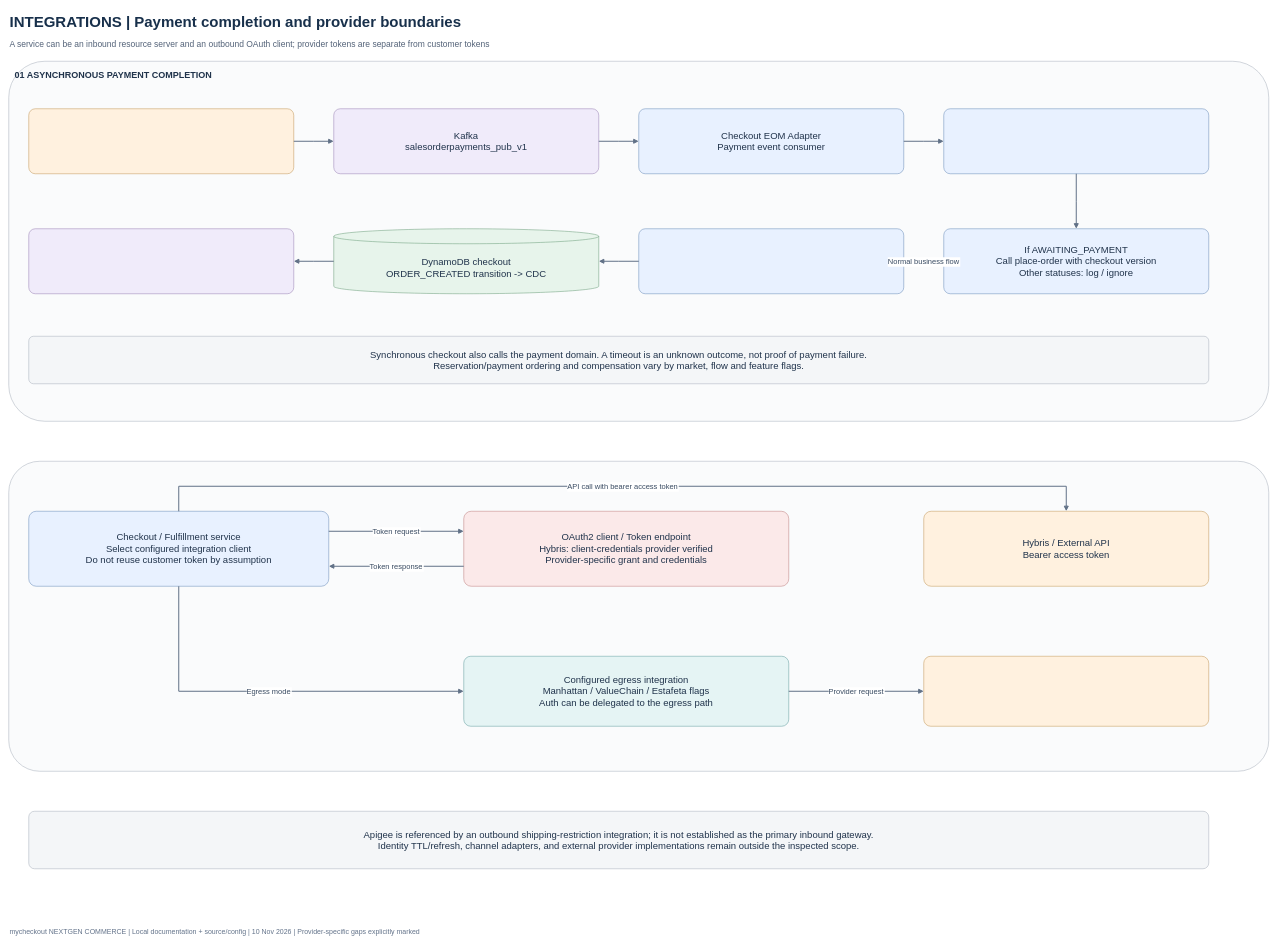
Some shapes in this 1278 by 945 pixel diagram are drawn without their labels. Here are the shapes that lost their labels. From the top down, the box of each, then its label:
(28, 108, 294, 174): Payment domain / Provider External implementation
(943, 108, 1209, 174): Checkout Business Get checkout by order ID
(28, 228, 294, 294): Normal order publication Continue on page 02
(638, 228, 904, 294): Checkout Data Persist updated checkout state
(8, 461, 1269, 771): 02 OUTBOUND SERVICE AUTHENTICATION
(923, 656, 1209, 726): Inventory / Delivery / Shipping rules Manhattan / Providers / Apigee route
